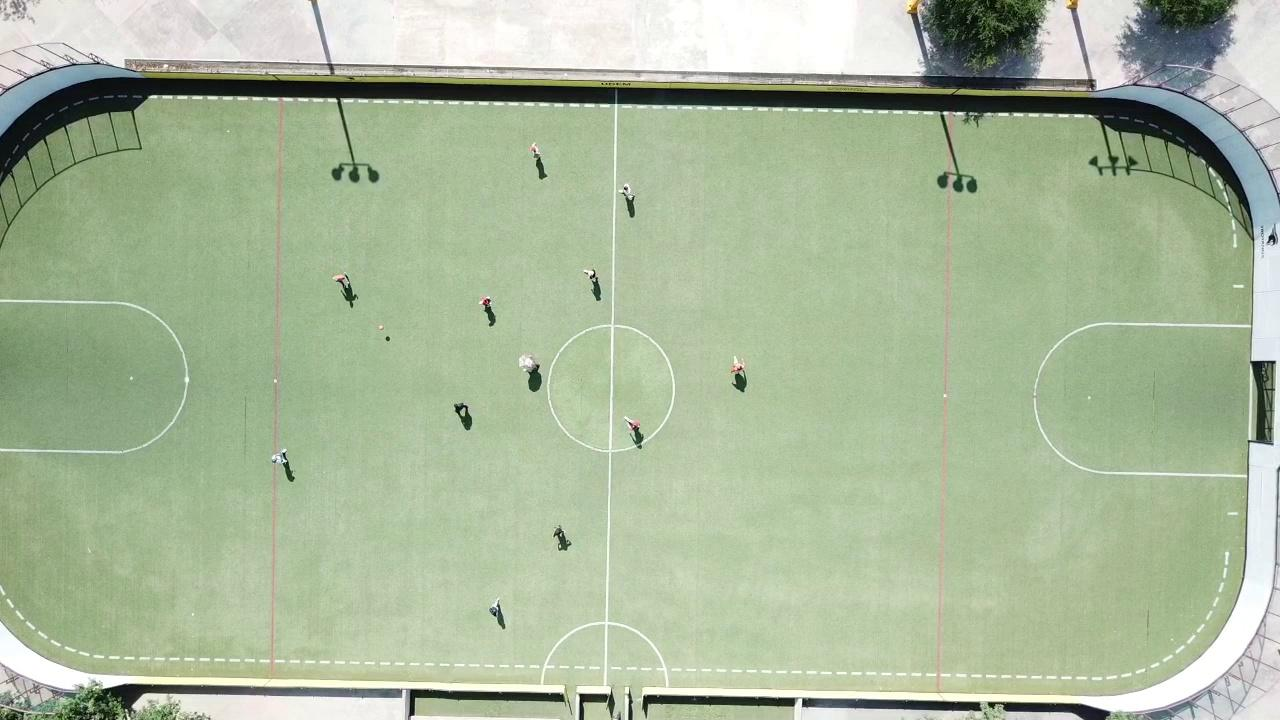ball: (378, 325, 383, 330)
player: (519, 353, 539, 373), (623, 416, 641, 435), (271, 449, 288, 465), (731, 357, 746, 375), (490, 598, 502, 619), (453, 402, 469, 417), (583, 269, 598, 285), (553, 525, 566, 543), (620, 182, 633, 199), (332, 273, 348, 286), (479, 295, 492, 309), (530, 142, 541, 158)
